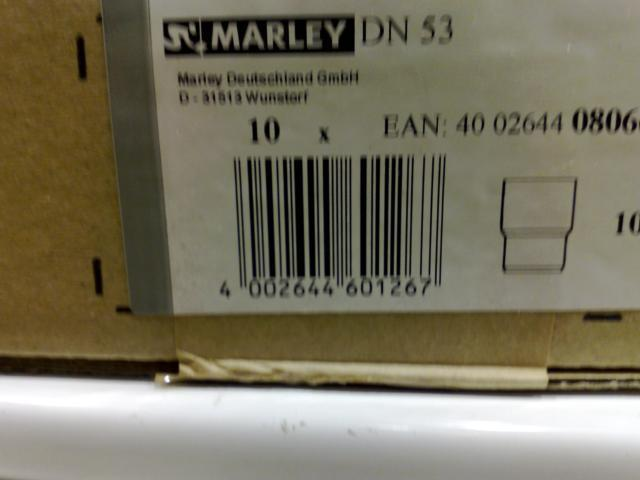Barcode: (197, 146, 476, 308)
